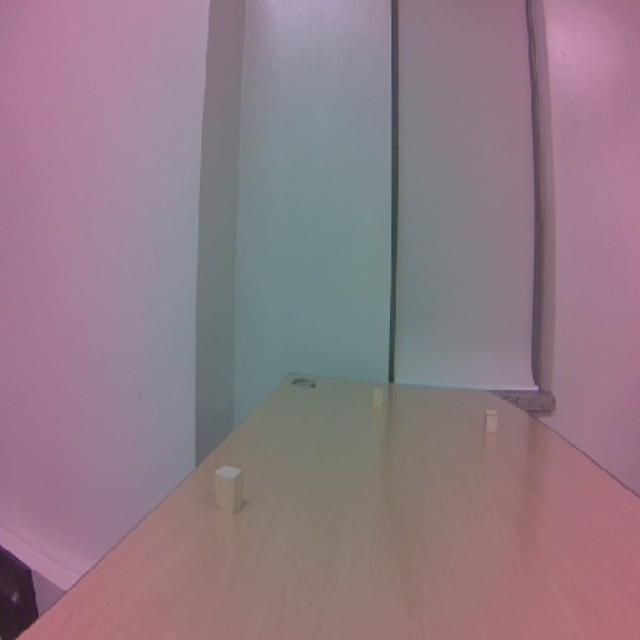obstacle: (207, 458, 256, 525)
